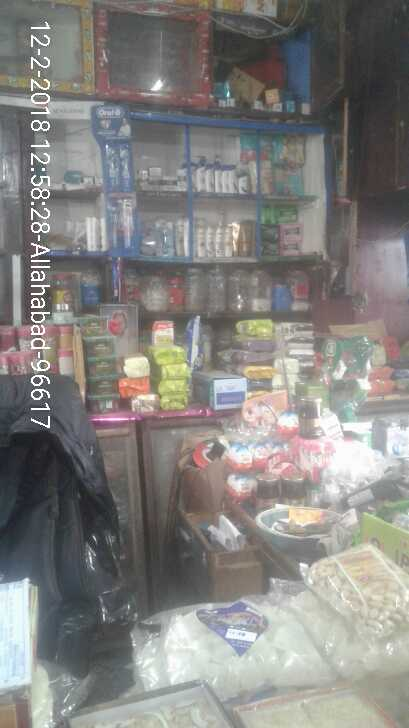venus: (154, 217, 175, 257)
